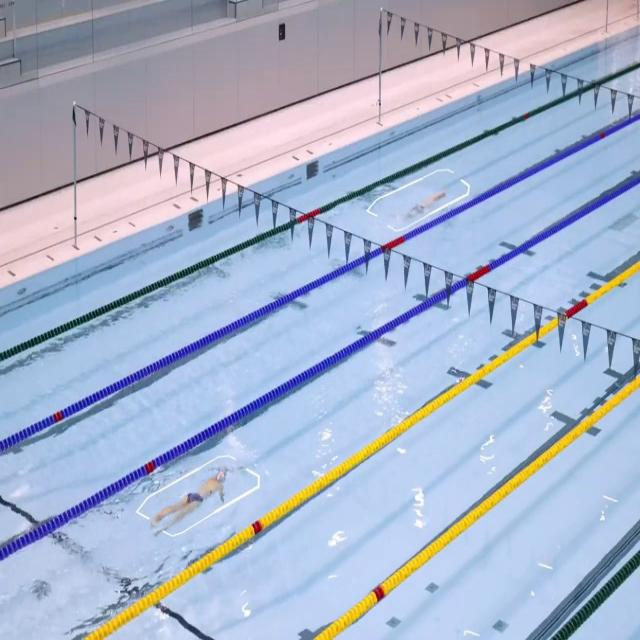Swimming: (151, 464, 243, 535), (406, 188, 447, 223)
